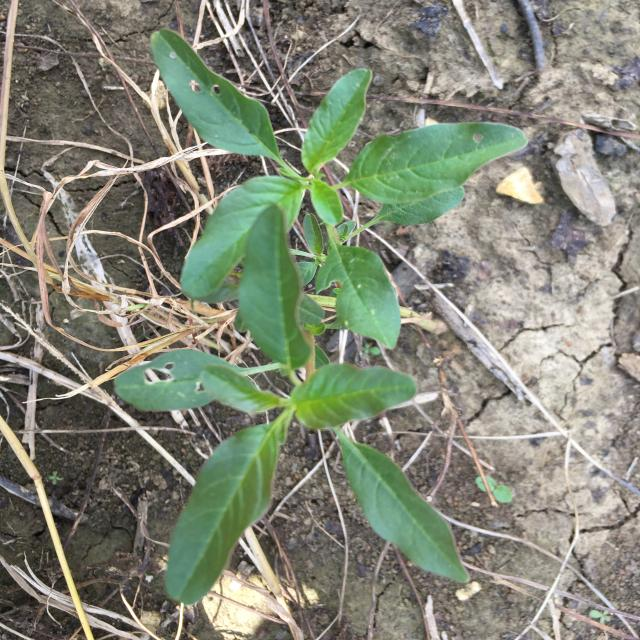Waterhemp: (113, 28, 529, 606)
